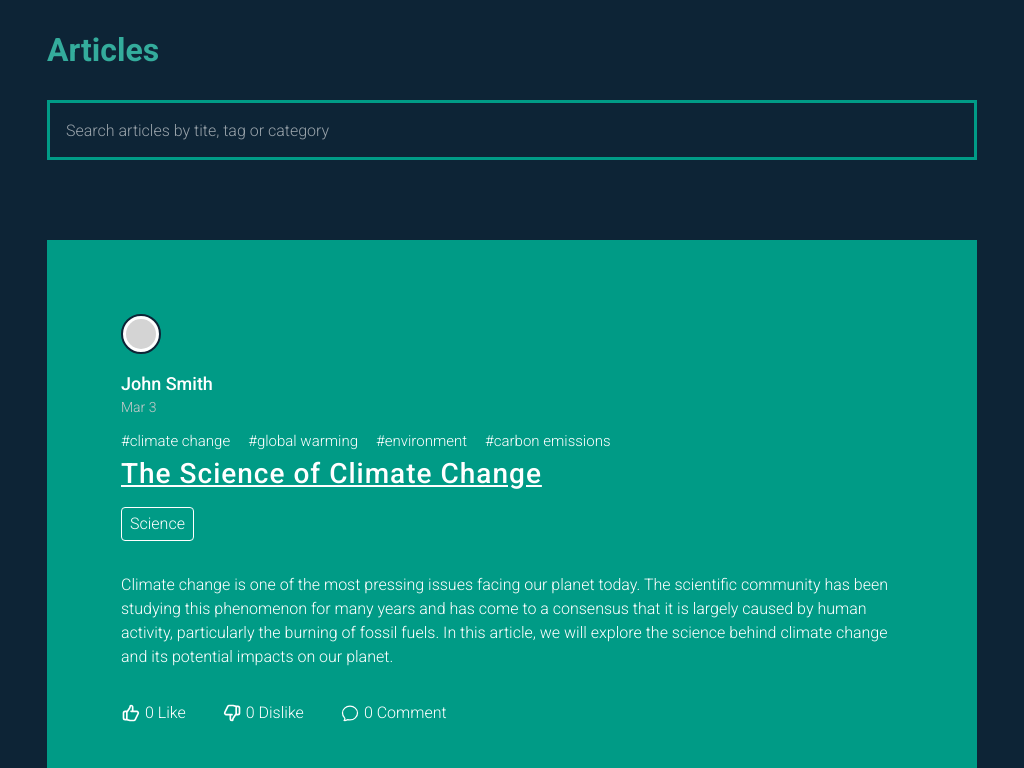
it: registration › should create a new user on registration.
Click the button "0 Like" at x=153, y=712, box [121,700,186,724]
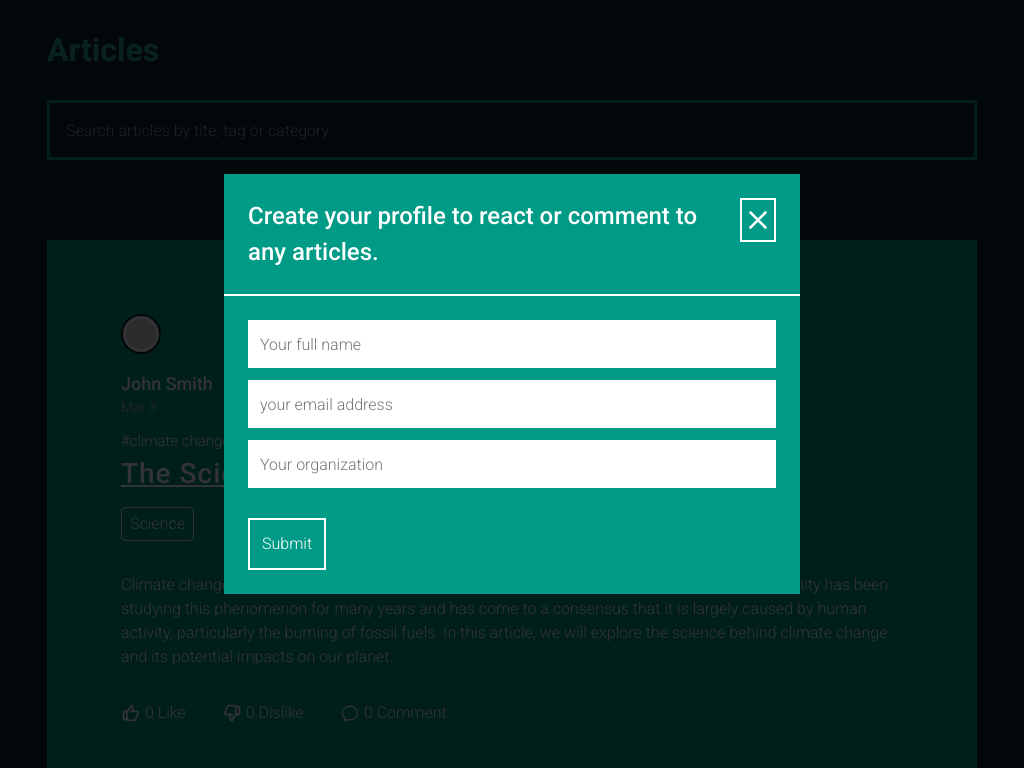
Type "John Doe" into the field with placeholder "Your full name" at x=512, y=344, box [248,320,776,368]
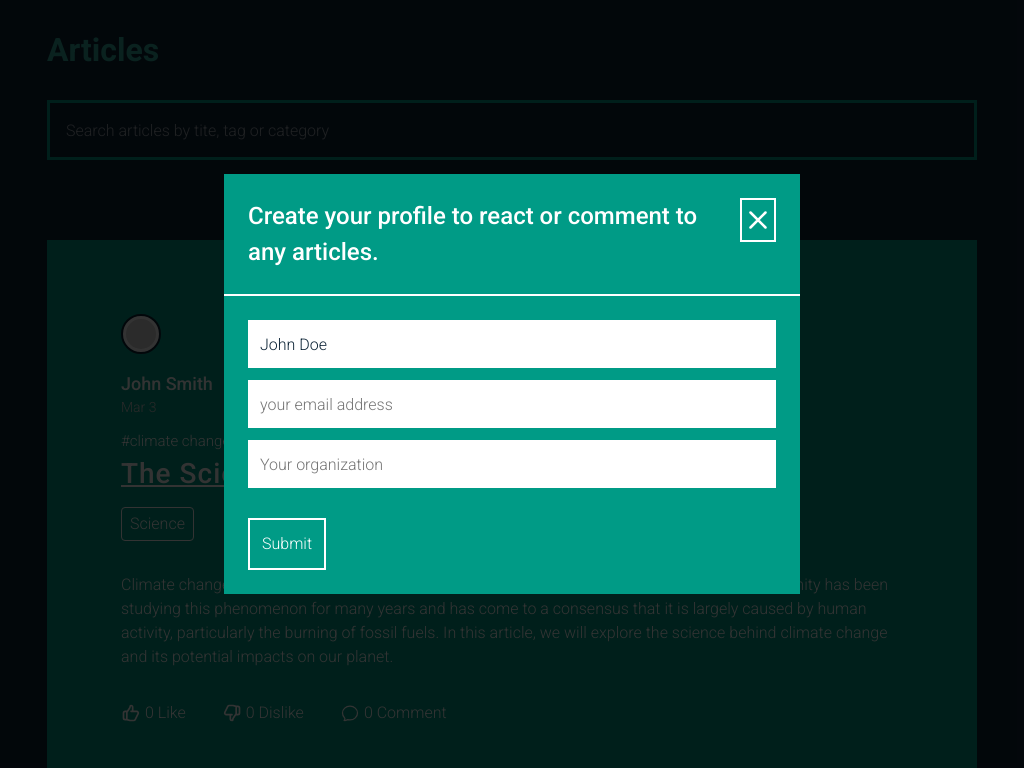
Type "johndoe@gmail.com" into the field with placeholder "your email address" at x=512, y=404, box [248,380,776,428]
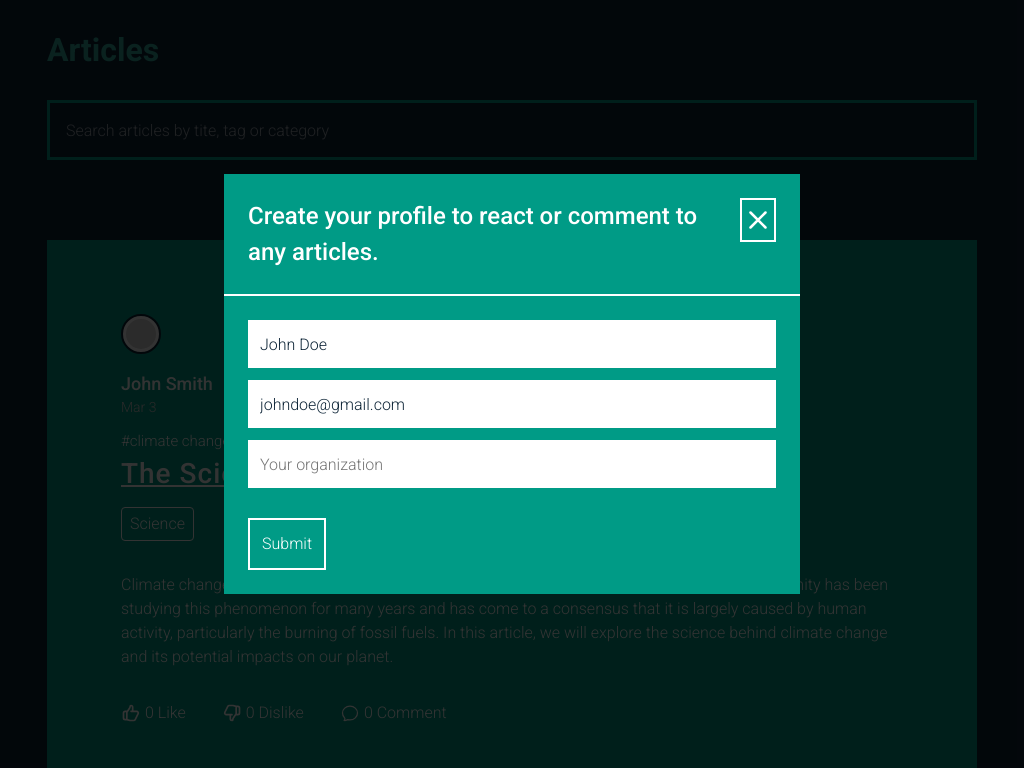
Type "ICS" into the field with placeholder "Your organization" at x=512, y=464, box [248,440,776,488]
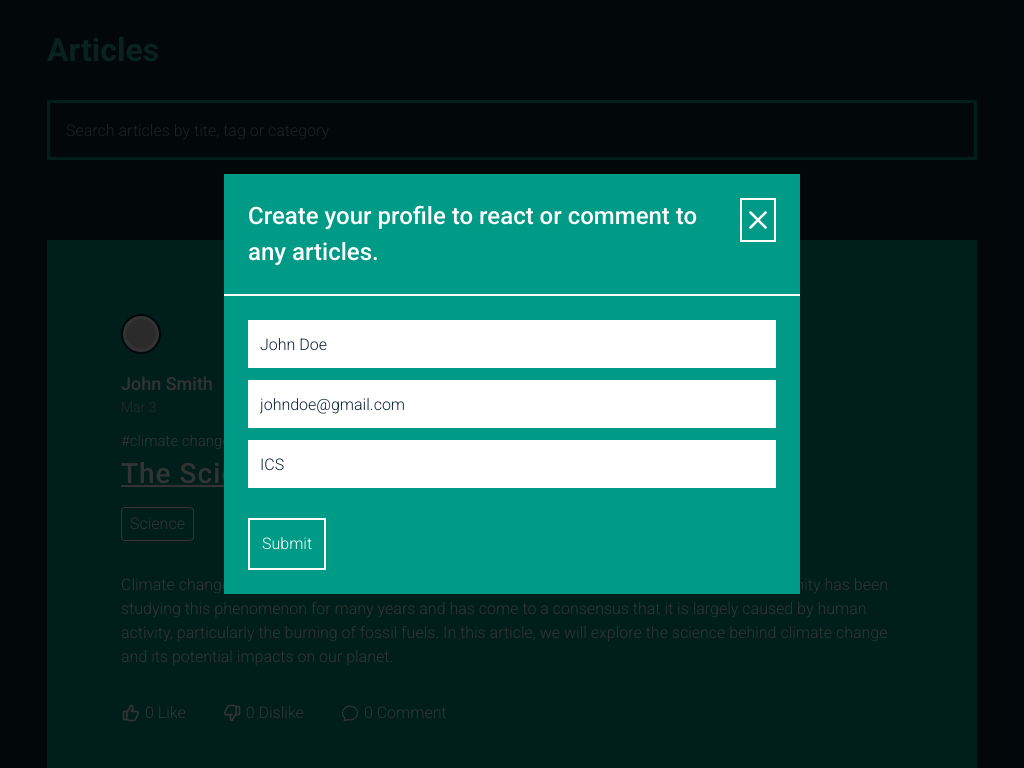
Submit the form with test id "user-form", box [248,320,776,570]
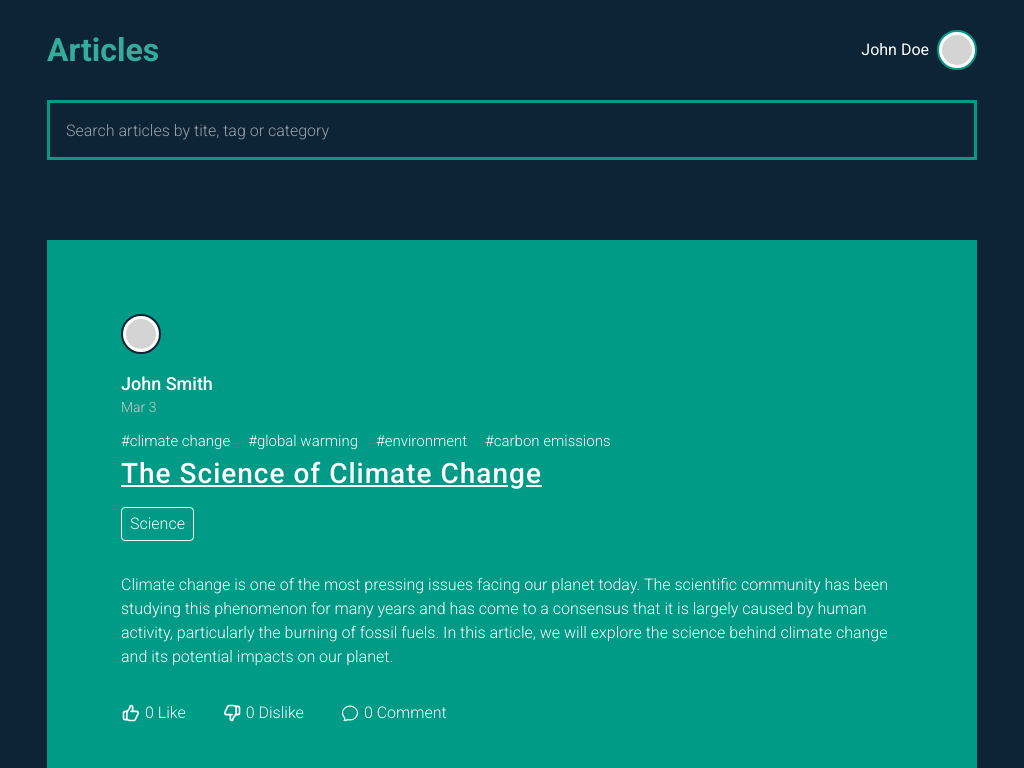
Check: the form with test id "user-form" is gone
